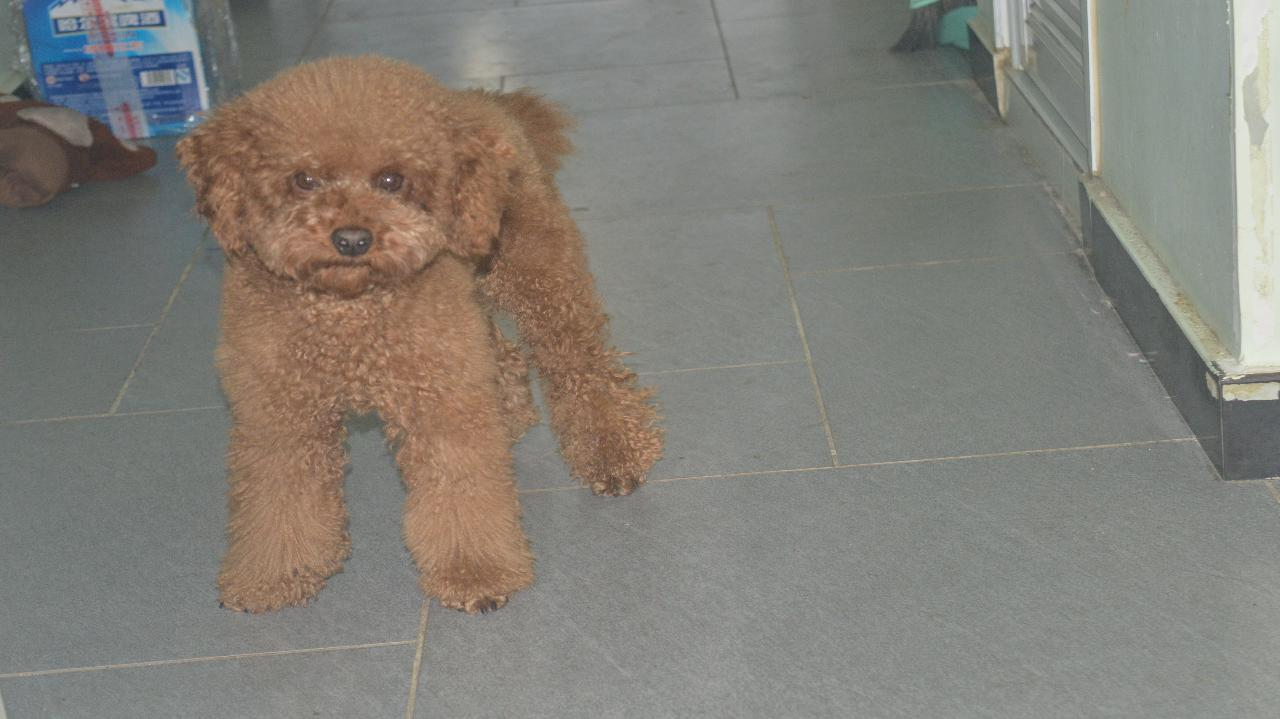zhuangzhuang: (179, 78, 660, 633)
